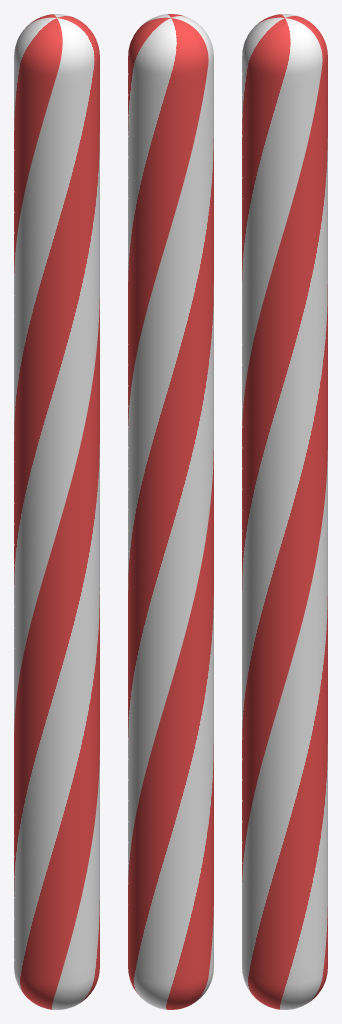
The model's file is pipe2_0.gltf.
3 views of the same model, side by side, from view 1: azimuth 90°, elevation 25°; view 2: azimuth 150°, elevation 25°; view 3: azimuth 330°, elevation 25° (orthographic).
Parts seen in each view (by area): view 1: Capsule; view 2: Capsule; view 3: Capsule.
Boxes of the visible parts, <box> form: Capsule: <box>14,14,99,1009</box>; Capsule: <box>128,14,213,1009</box>; Capsule: <box>242,14,327,1009</box>.
Bounding box in the file's own units: 0.022 × 0.279 × 0.022.
Materials: 1 (1 with a texture image).
